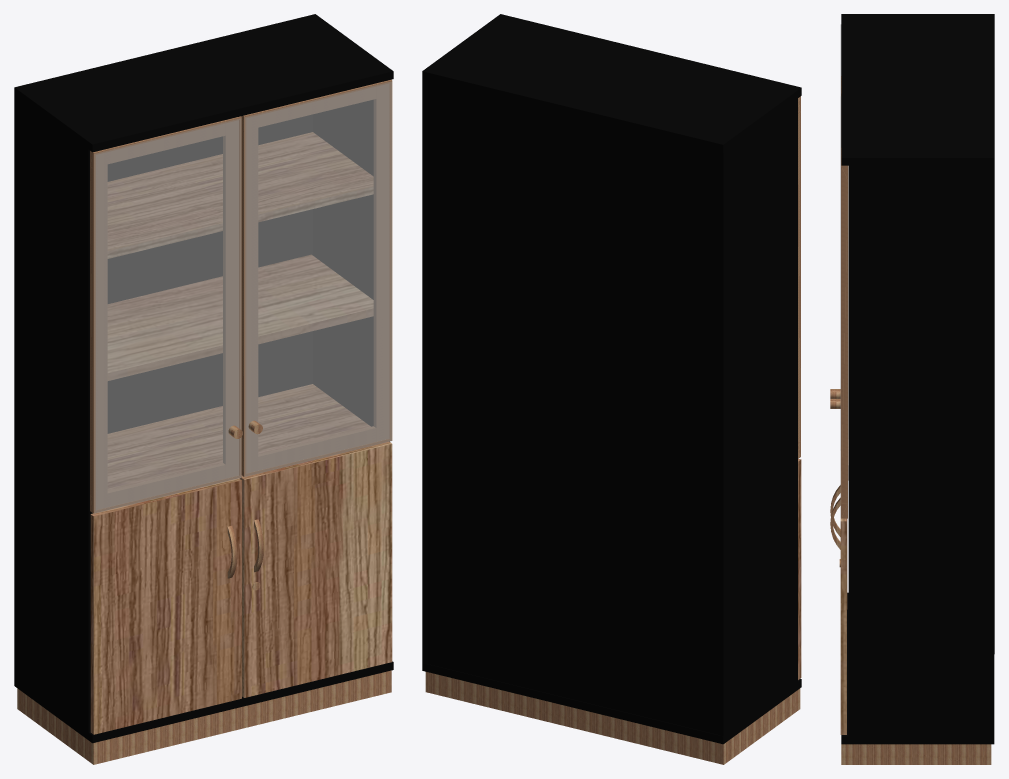
Rendered from baseline_5OH_45x100_satinato_aluframe_combined_finala.fbx.
3 views of the same model, side by side, from view 1: azimuth 30°, elevation 25°; view 2: azimuth 150°, elevation 25°; view 3: azimuth 270°, elevation 25° (orthographic). The views are drawn at different scales.
Parts seen in each view (by area): view 1: drewno_mesh (×3), szklo_mesh (×2), drewno2_mesh, plastic_mesh (×2), metal_mesh; view 2: drewno_mesh (×2), metal_mesh, plastic_mesh; view 3: drewno_mesh (×2), metal_mesh, plastic_mesh, szklo_mesh.
Part boxes in pixels (x1,y1,x2,y2): drewno_mesh (×3): [14, 14, 393, 743]; szklo_mesh (×2): [94, 81, 391, 513]; drewno2_mesh: [108, 132, 373, 490]; plastic_mesh (×2): [90, 79, 392, 513]; metal_mesh: [17, 670, 391, 764]; drewno_mesh (×2): [422, 14, 801, 744]; metal_mesh: [425, 672, 800, 764]; plastic_mesh: [798, 96, 800, 458]; drewno_mesh (×2): [840, 14, 994, 744]; metal_mesh: [841, 744, 991, 764]; plastic_mesh: [841, 148, 848, 518]; szklo_mesh: [840, 97, 841, 517].
Size of the model in its own units: 254 by 501 by 123.
